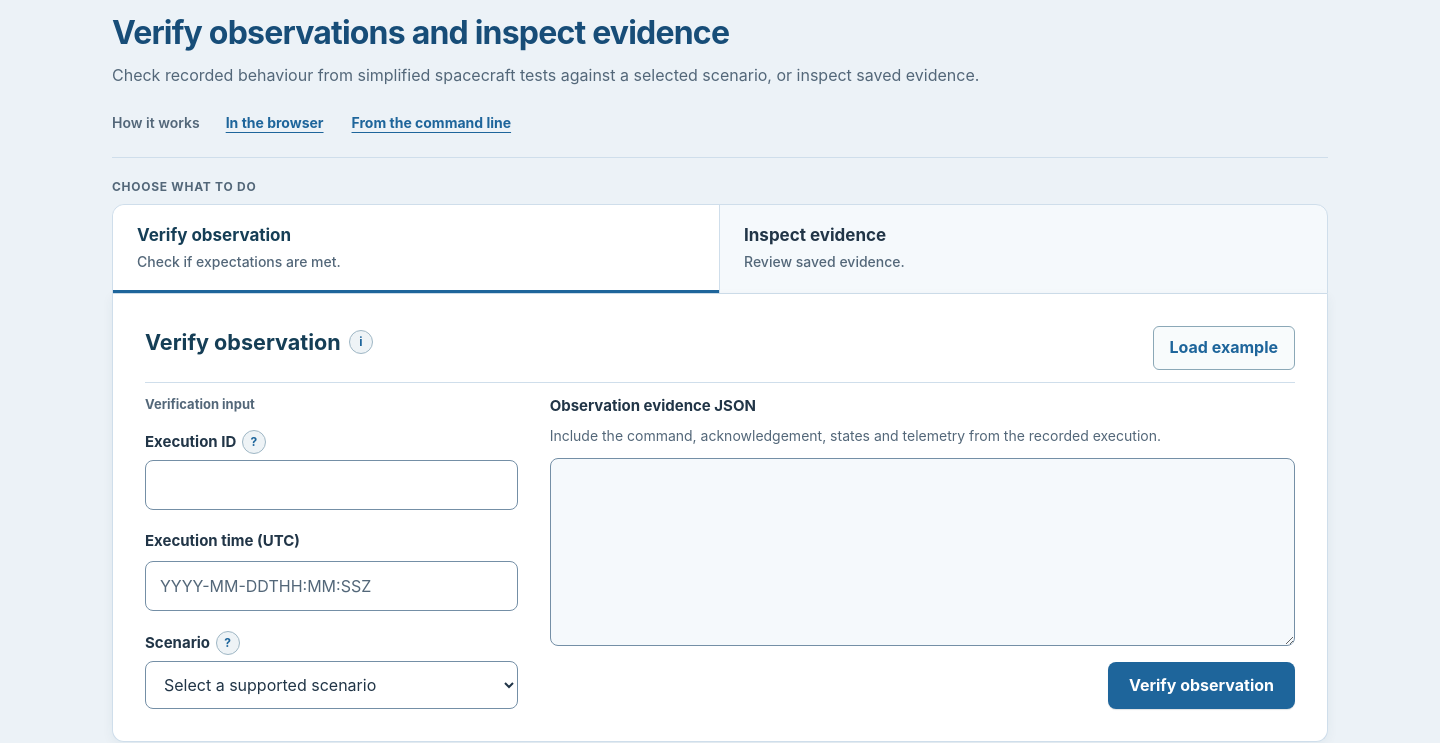
Test: App inspection › rejects a malformed successful observation inspection
The image size is (1440, 743).
Click the button with aria-label "Show Inspect evidence" at (815, 235), box [720,205,1327,293]
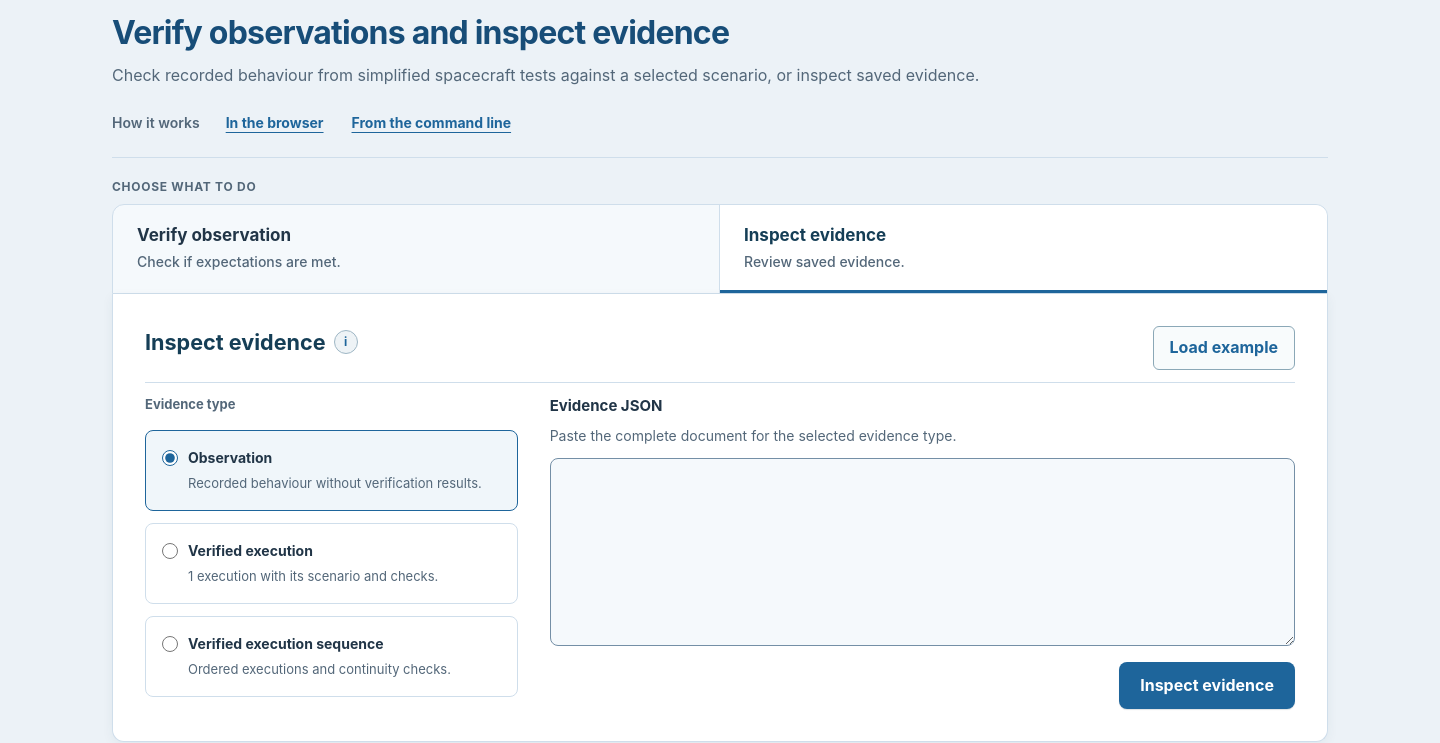
Type "malformed observation" into the text box labelled "Evidence JSON" at (922, 552), box [550,458,1295,646]
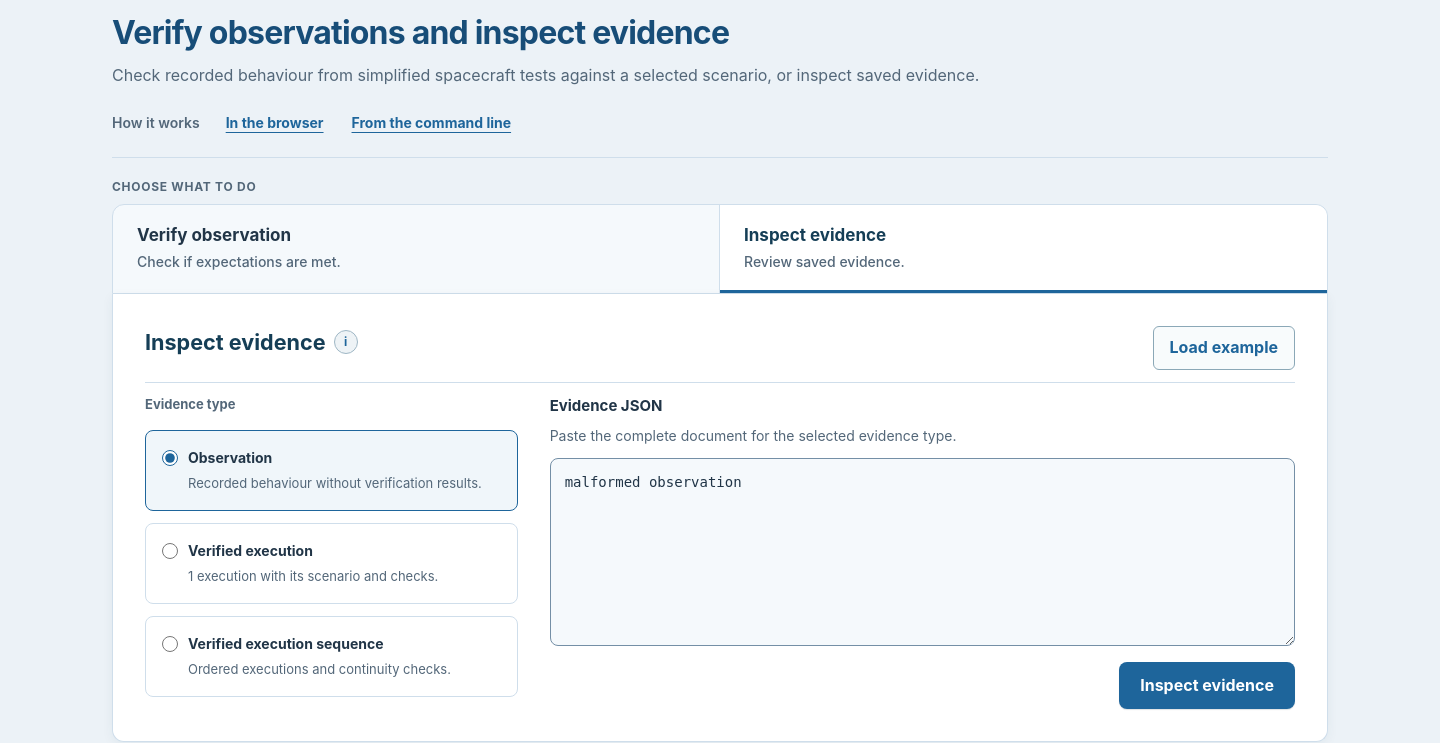
Click the button "Inspect evidence" at (1207, 685), box [1119,662,1295,709]
(page scrolled)
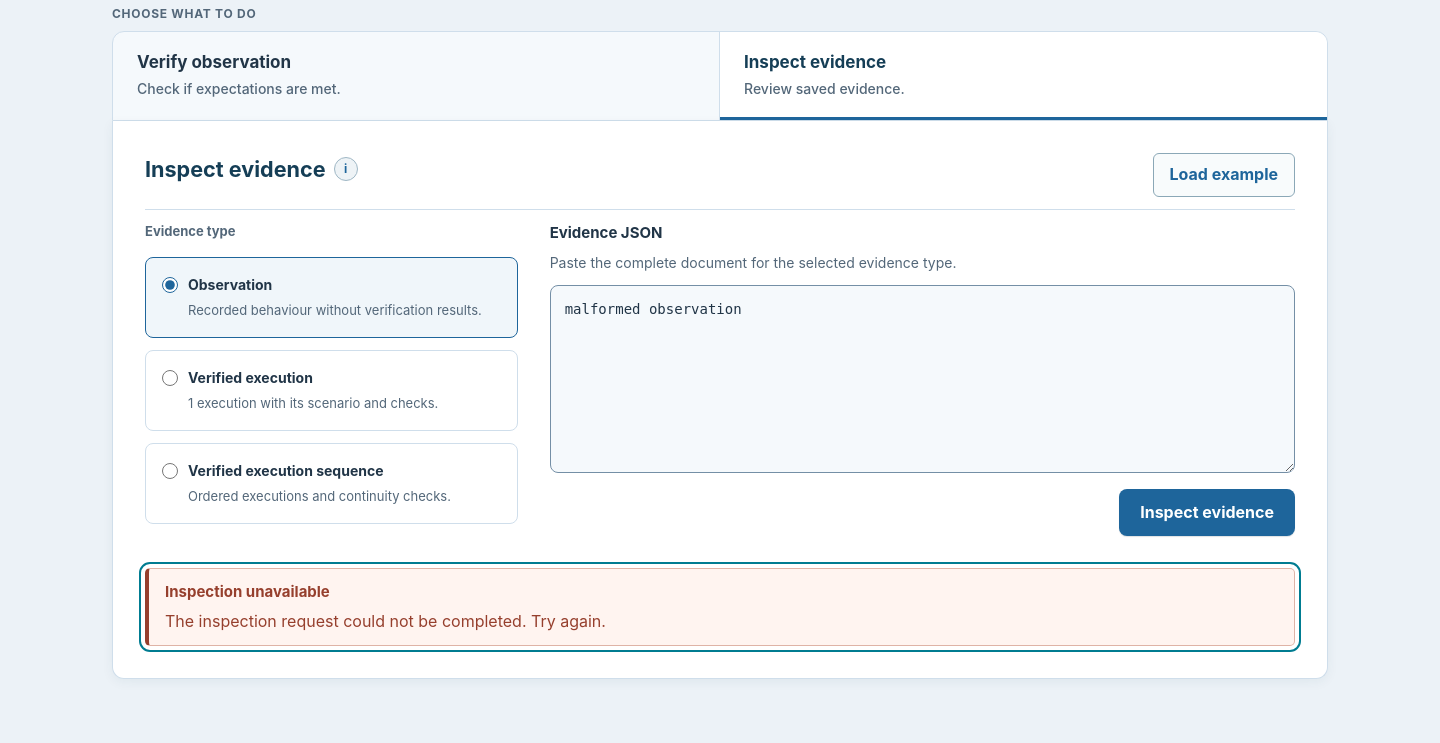
Expected: the message shows "The inspection request could not be completed. Try again.", [165,611,606,631]
